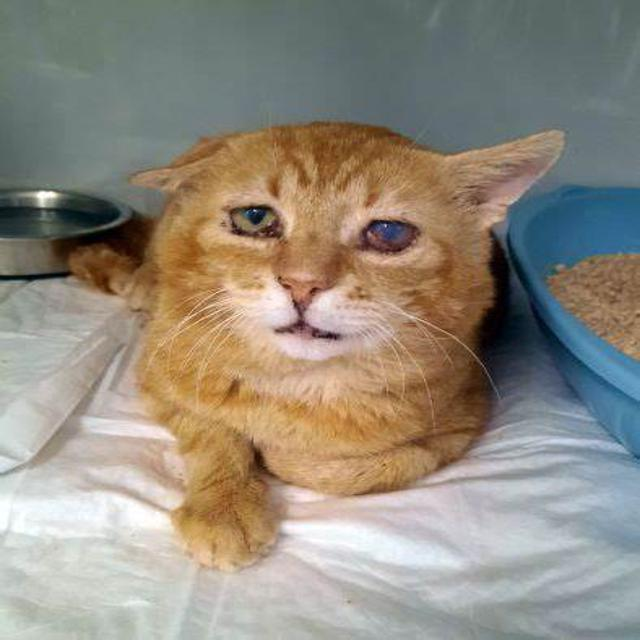eye_infection: (359, 214, 418, 261), (225, 200, 286, 244)
